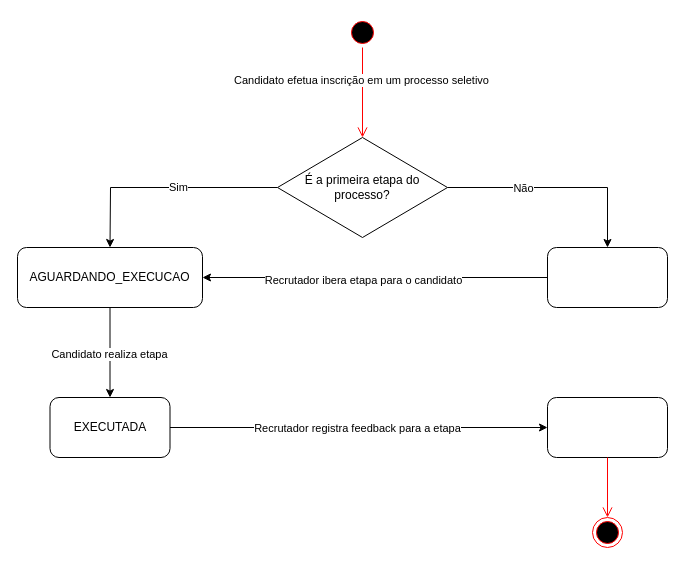
The diagram is 685 pixels wide and 565 high, and some of its shapes have lost their labels. The box of each missing label's shape, as (x1, y1, x2, y2) in pixels:
BLOQUEDA: (546, 246, 668, 308)
CONCLUIDA: (546, 396, 668, 458)
